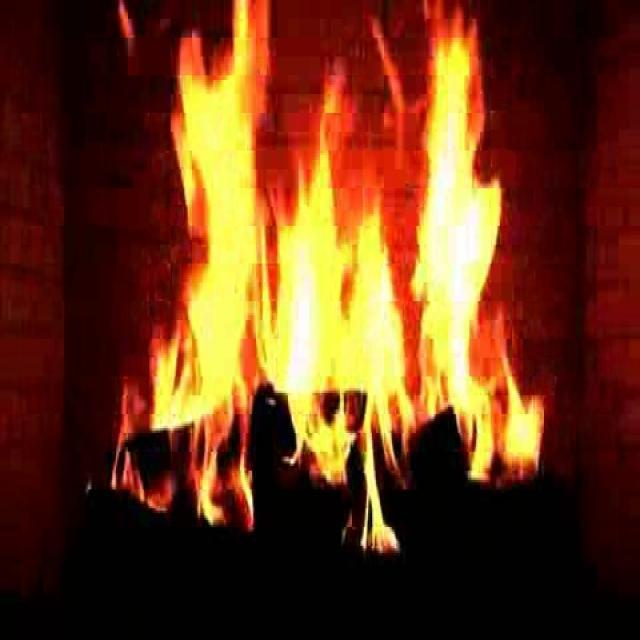Fire: (151, 29, 524, 516)
